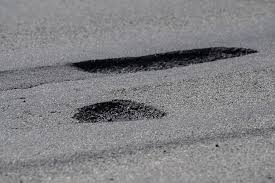pothole: (55, 47, 270, 79), (62, 93, 177, 133)
